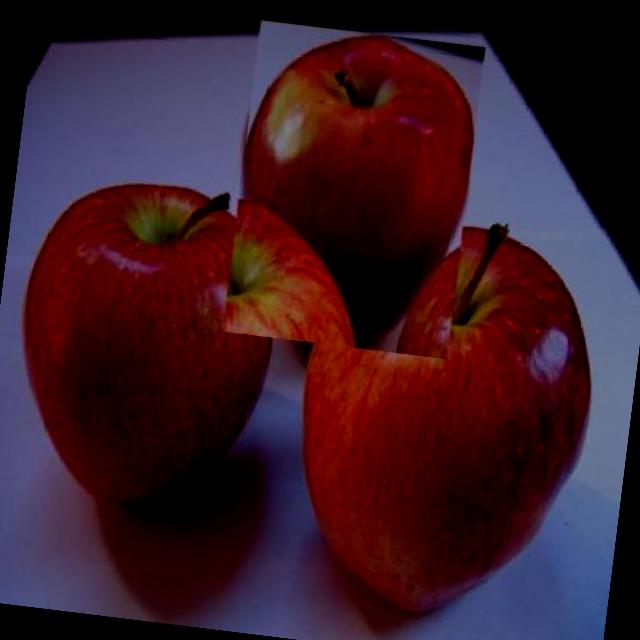Apple: (278, 196, 614, 634), (1, 167, 290, 522), (222, 19, 484, 358)
